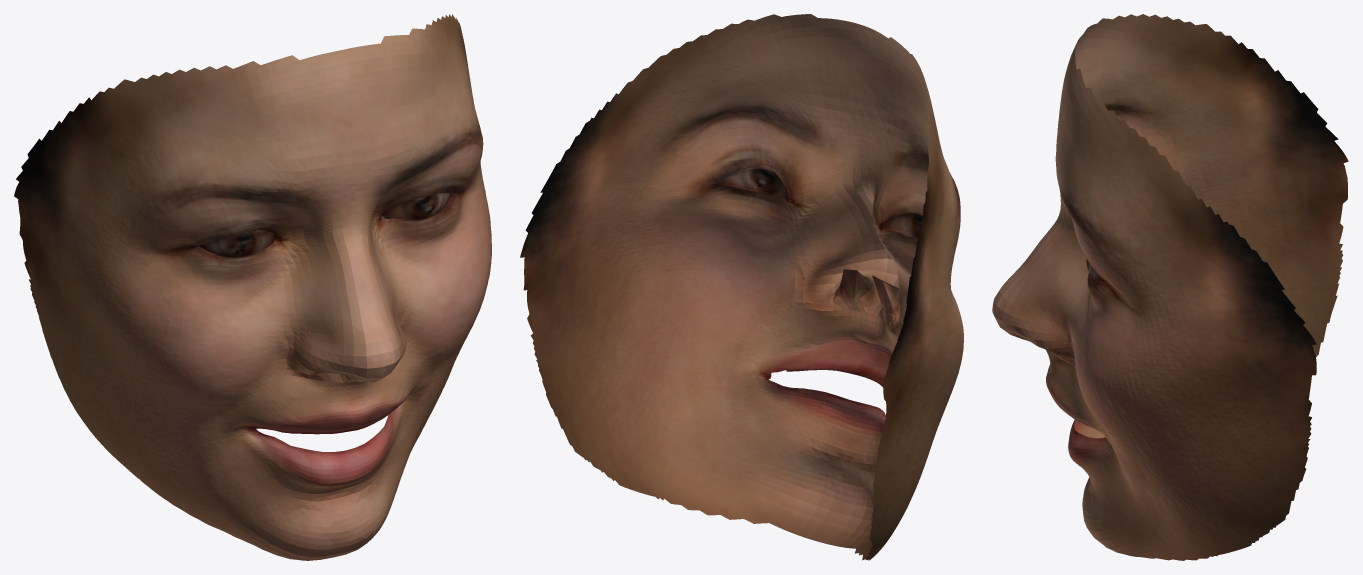
Rendered from generated.photos_v3_0000333_mesh.obj.
3 views of the same model, side by side, from view 1: azimuth 30°, elevation 25°; view 2: azimuth 150°, elevation 25°; view 3: azimuth 270°, elevation 25° (orthographic). The views are drawn at different scales.
Size of the model in its own units: 1.35 by 1.66 by 1.08.
